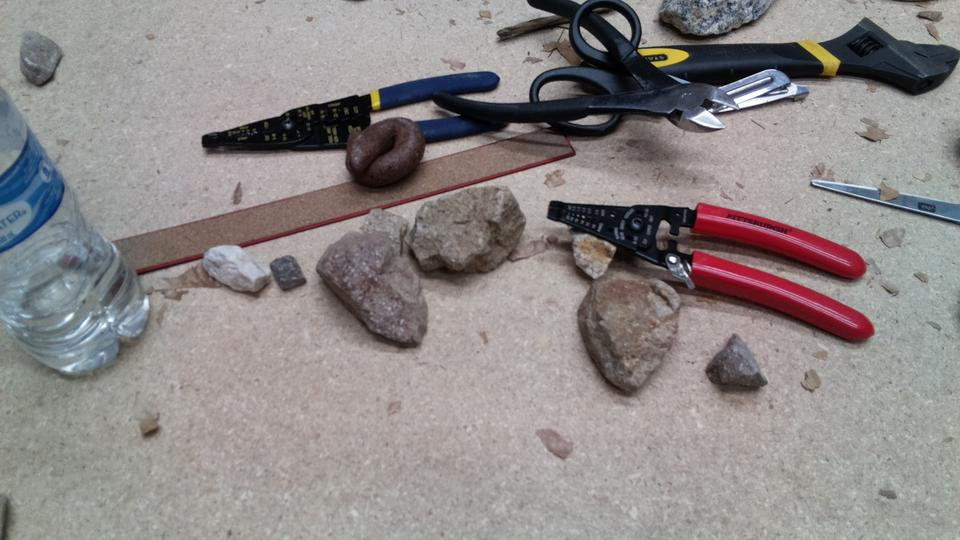poop: (343, 113, 427, 187)
